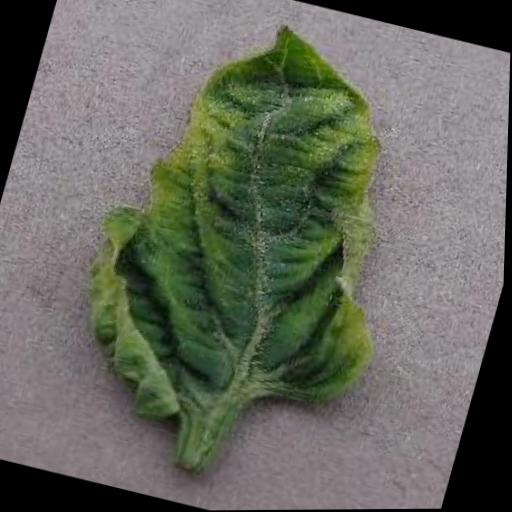Yellow Leaf Curl Virus: (52, 0, 453, 474)
